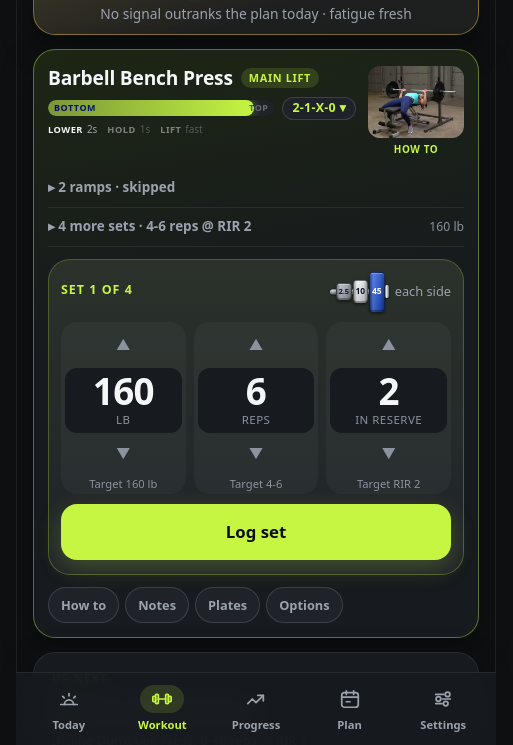
Test case: the plates on the Workout tab › a plate change that moves the target draws the new target, not the dial turned before it
The width and height of the screenshot is (513, 745).
(page scrolled)
Click the button named "Increase weight": (123,346) [65,326,182,366]
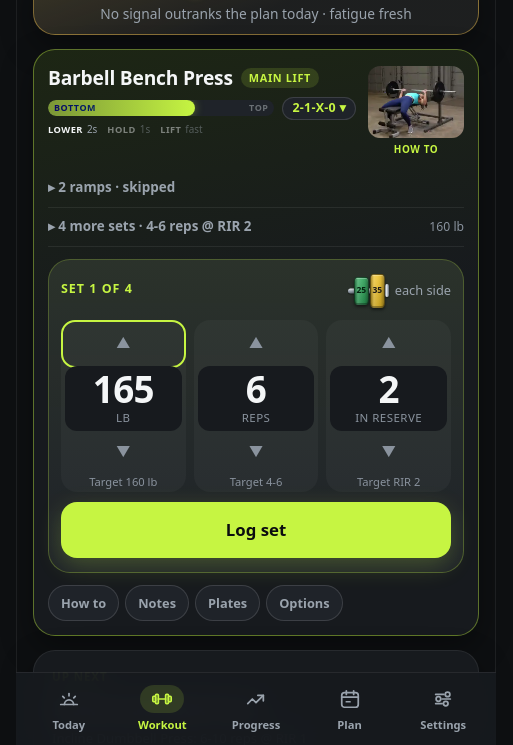
Expected: the button with test id "logger-weight" shows "165", [65,366,182,431]
Note: No 2.5s today: 160 cannot be made, the target moves to 155 and the logger starts from it.
Click the tab with test id "plates-tab": (228,603) [195,585,260,621]
(page scrolled)
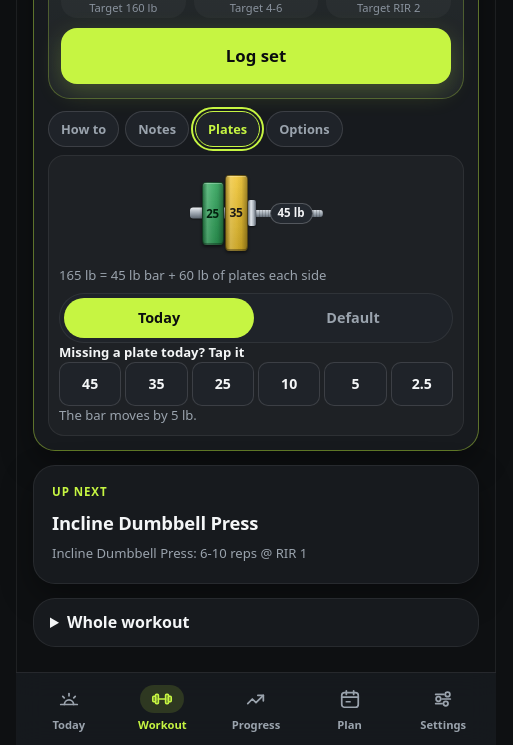
Click the button with test id "missing-2.5": (422,384) [391,362,453,406]
(page scrolled)
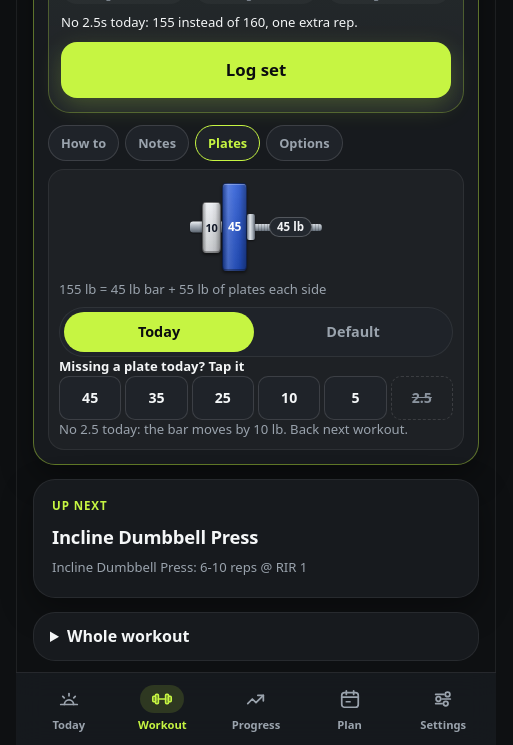
Expected: the text with test id "plate-caption" reads "155 lb = 45 lb bar + 55 lb of plates each side", [59,280,326,298]
